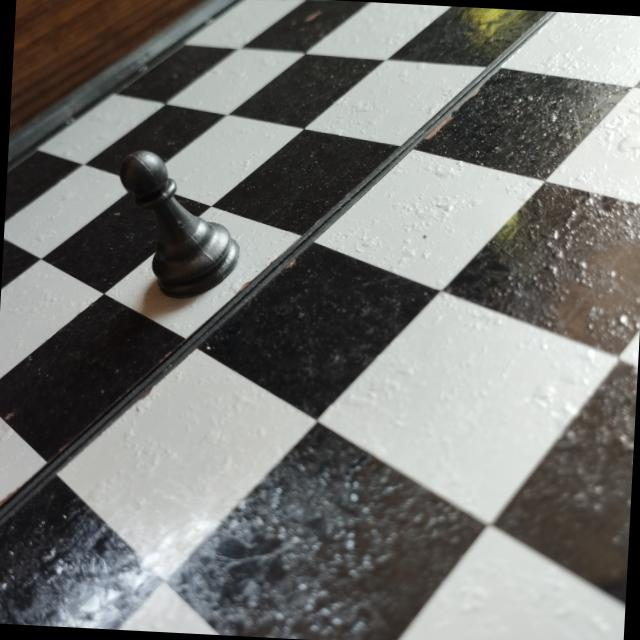Black Pawn: (110, 144, 249, 310)
